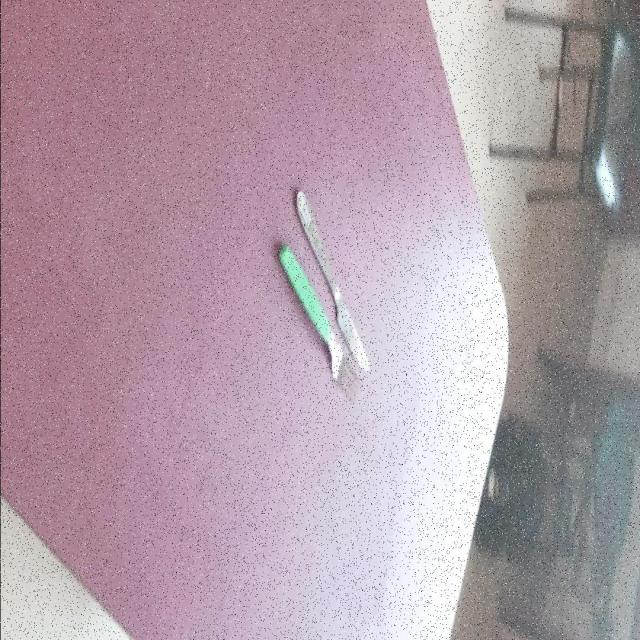Fork: (278, 245, 362, 408)
Knife: (295, 191, 372, 375)
